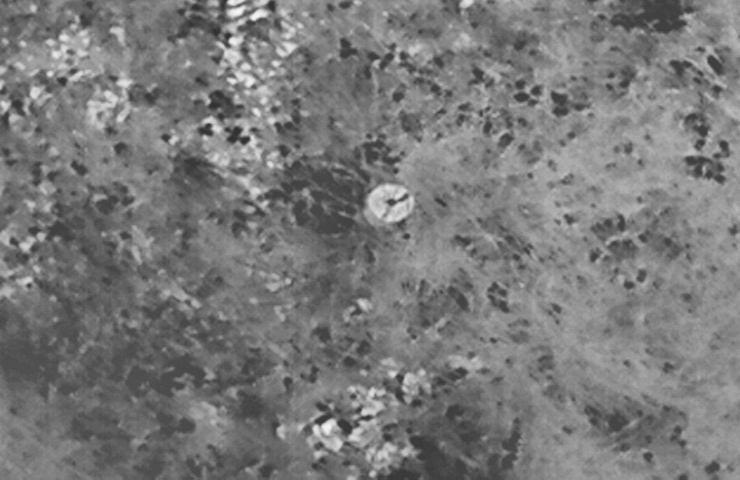landmines: (364, 179, 420, 224)
